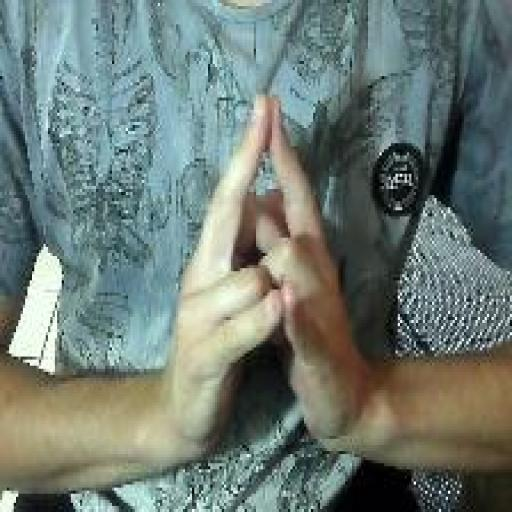Tori -bird-: (164, 88, 364, 464)
